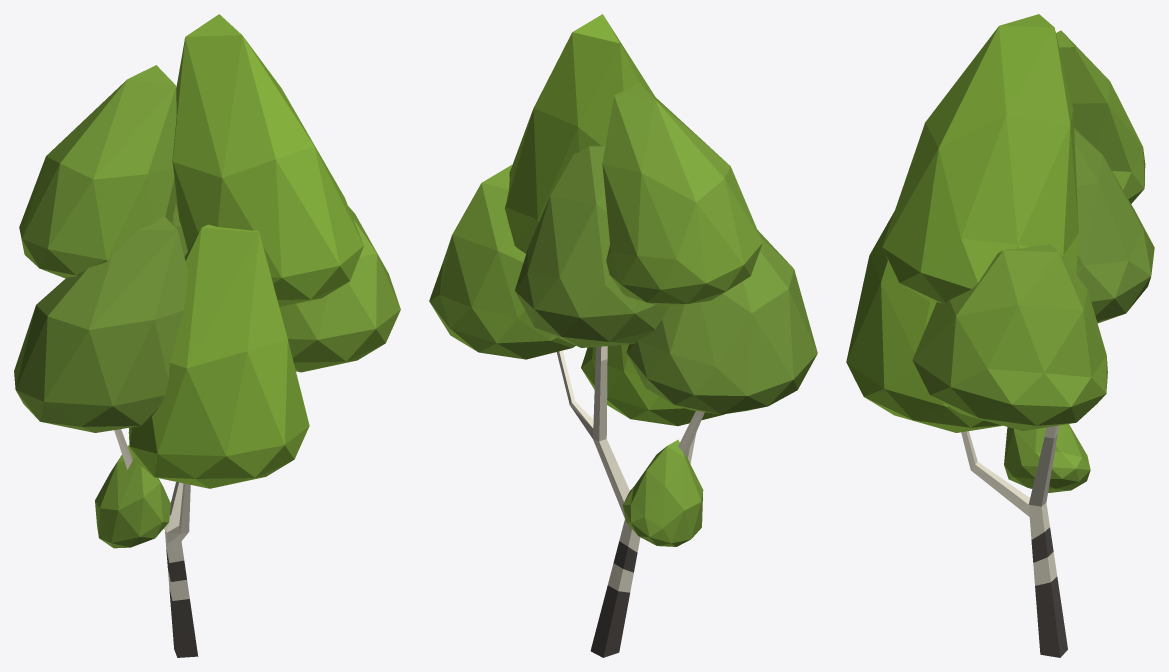
The model's file is Tree.gltf.
The picture shows the model from 3 angles, left to right: view 1: azimuth 30°, elevation 25°; view 2: azimuth 150°, elevation 25°; view 3: azimuth 270°, elevation 25°; orthographic projection. The views are drawn at different scales.
Parts seen in each view (by area): view 1: Tree; view 2: Tree; view 3: Tree.
Part boxes in pixels (bbox=[...]): Tree: bbox=[14, 14, 400, 657]; Tree: bbox=[429, 14, 817, 657]; Tree: bbox=[846, 14, 1154, 657].
Bounding box in the file's own units: 4.68 × 7.69 × 3.35.
Materials: 2 (2 with a texture image).
